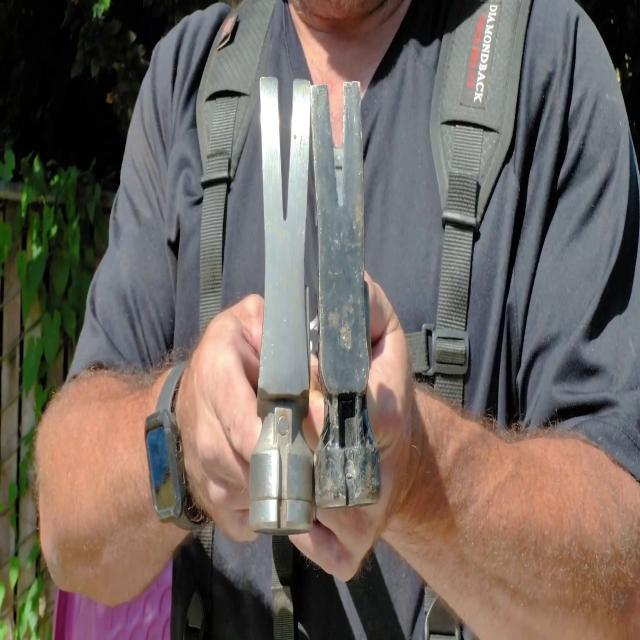hammer: (309, 81, 382, 504), (249, 75, 317, 529)
